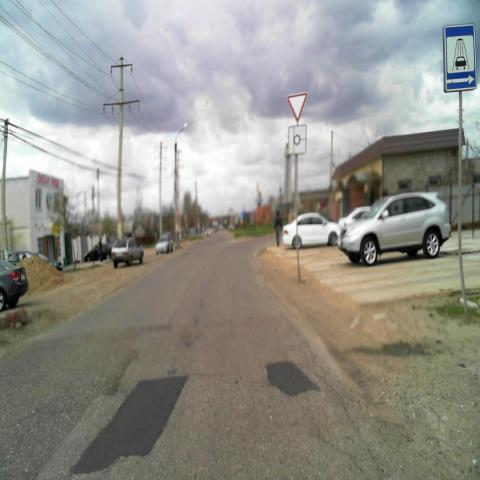2_4: (286, 92, 309, 120)
7_5: (442, 22, 478, 94)
8_13_1: (287, 122, 307, 155)
